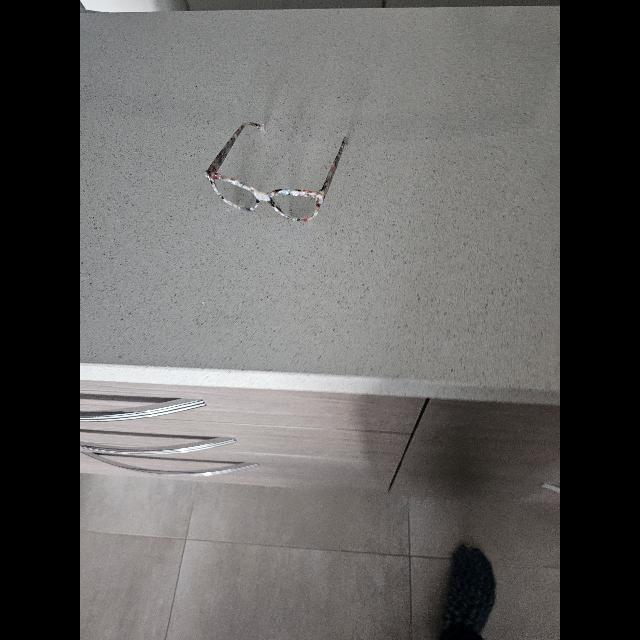glasses: (205, 122, 347, 222)
